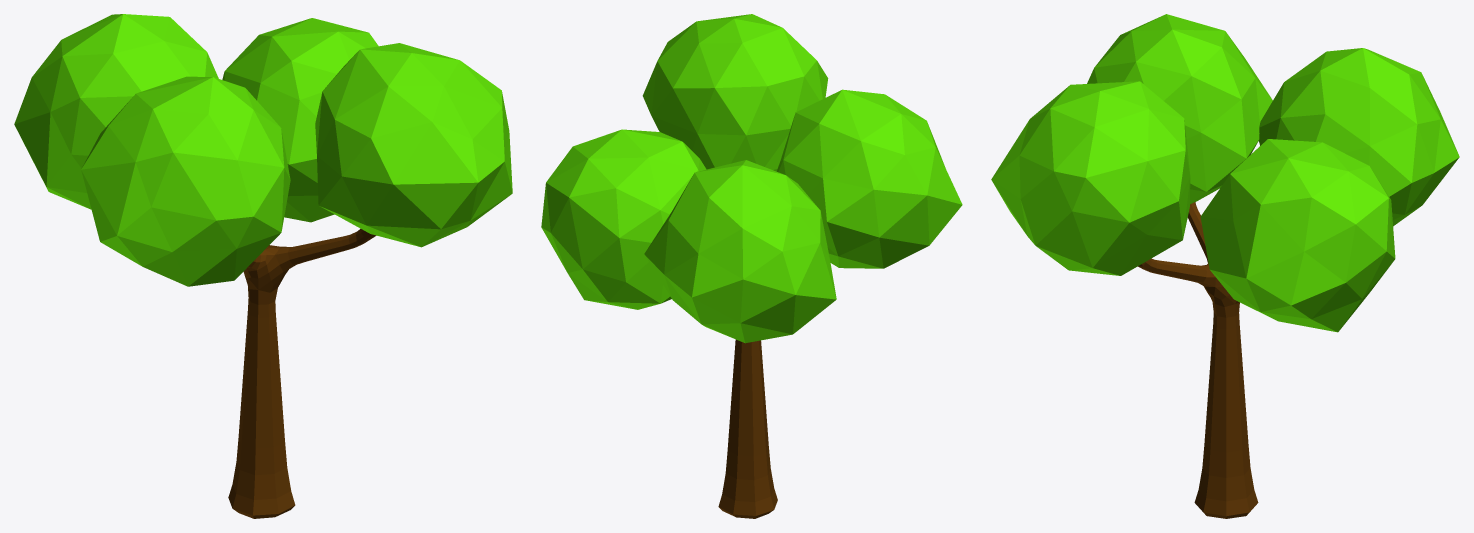
The model's file is Tree03_2.fbx.
3 renders of one model, left to right at view 1: azimuth 30°, elevation 25°; view 2: azimuth 150°, elevation 25°; view 3: azimuth 270°, elevation 25°, orthographic. The views are drawn at different scales.
Parts seen in each view (by area): view 1: t2leaf, t2root; view 2: t2leaf, t2root; view 3: t2leaf, t2root.
Boxes of the visible parts, x1,y1,x2,y2 form: t2leaf: (14, 14, 512, 286); t2root: (228, 228, 376, 518); t2leaf: (541, 14, 962, 343); t2root: (718, 339, 777, 518); t2leaf: (991, 14, 1459, 332); t2root: (1138, 202, 1258, 518).
Size of the model in its own units: 691 by 848 by 788.
